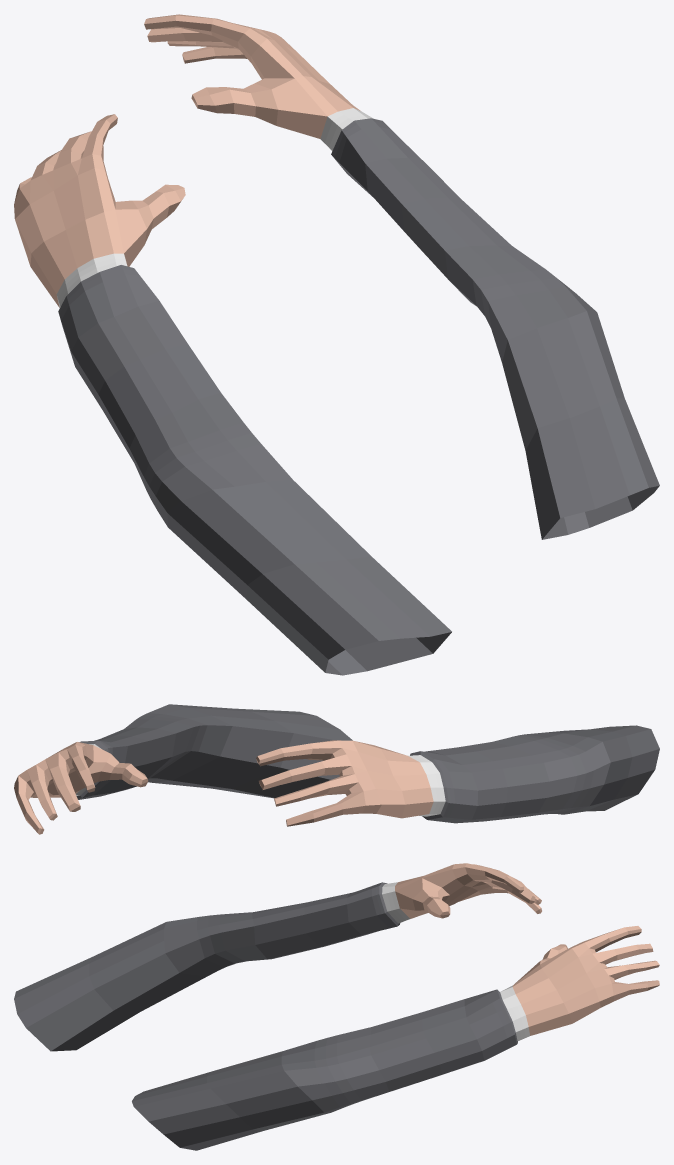
Rendered from PlayerHands.fbx.
3 renders of one model, top to bottom at view 1: azimuth 30°, elevation 25°; view 2: azimuth 150°, elevation 25°; view 3: azimuth 270°, elevation 25°, orthographic. The views are drawn at different scales.
Parts seen in each view (by area): view 1: Plane.002, Plane.001; view 2: Plane.002, Plane.001; view 3: Plane.001, Plane.002.
Boxes of the visible parts, x1,y1,x2,y2 form: Plane.002: (14,114,451,675); Plane.001: (144,14,659,539); Plane.002: (256,725,659,826); Plane.001: (14,704,352,834); Plane.001: (132,926,659,1150); Plane.002: (14,863,541,1051).
Size of the model in its own units: 69.3 by 38.62 by 115.
